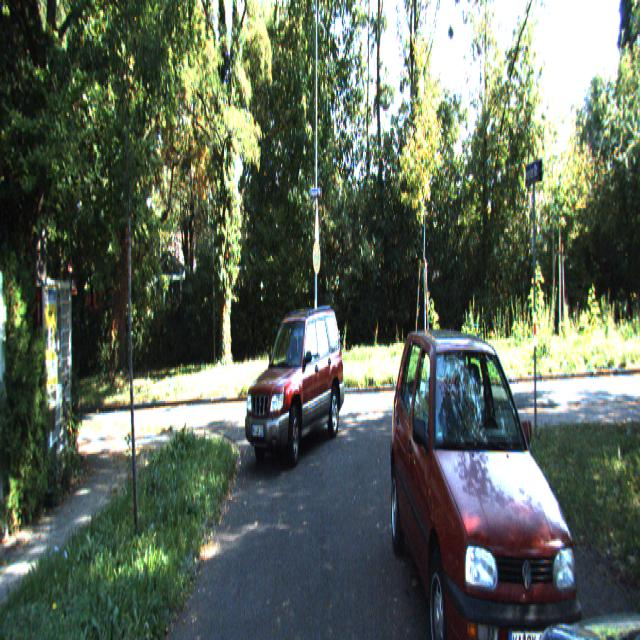Car: (387, 326, 596, 638), (243, 305, 345, 475)
